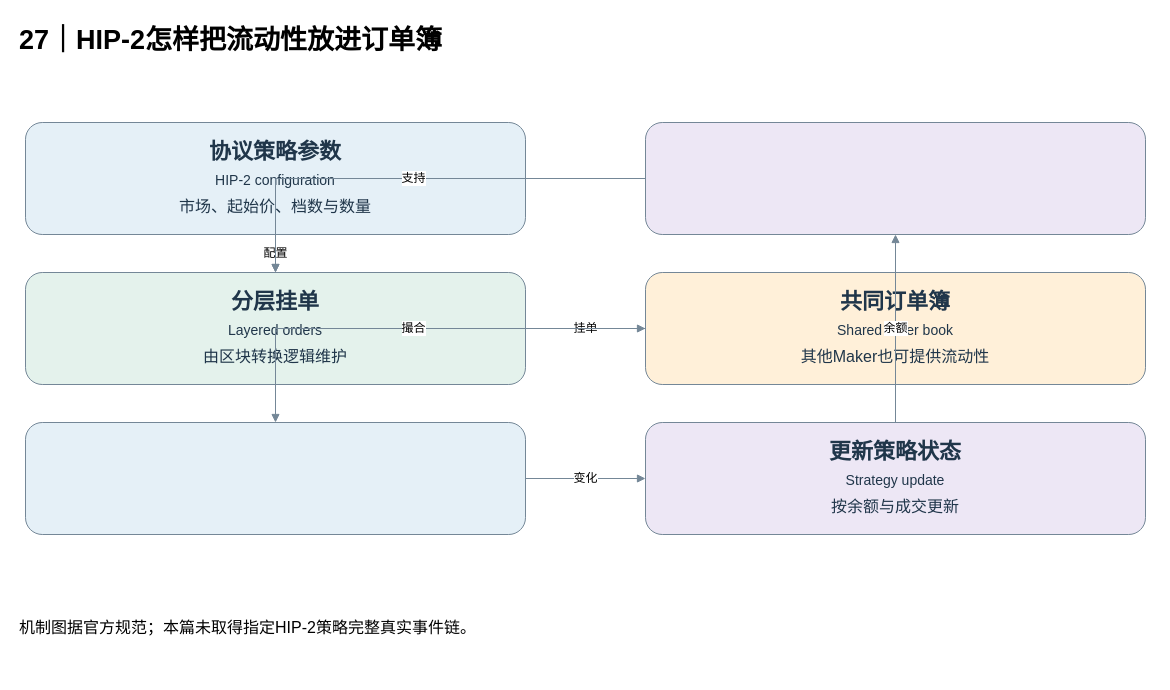
The diagram is 1170 pixels wide and 690 high, and some of its shapes have lost their labels. The shapes that lost their labels are listed below. From the top down, each one's centre as x and y in pixels, then its label:
At point 895,178: "策略资产余额 Strategy balances Token与USDC".
At point 275,478: "真实撮合 Matching 成交仍由簿规则处理".
